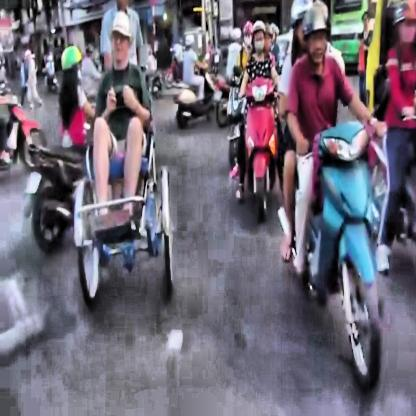wear: (302, 4, 331, 64), (110, 11, 133, 61), (61, 44, 84, 87), (252, 19, 266, 53)
